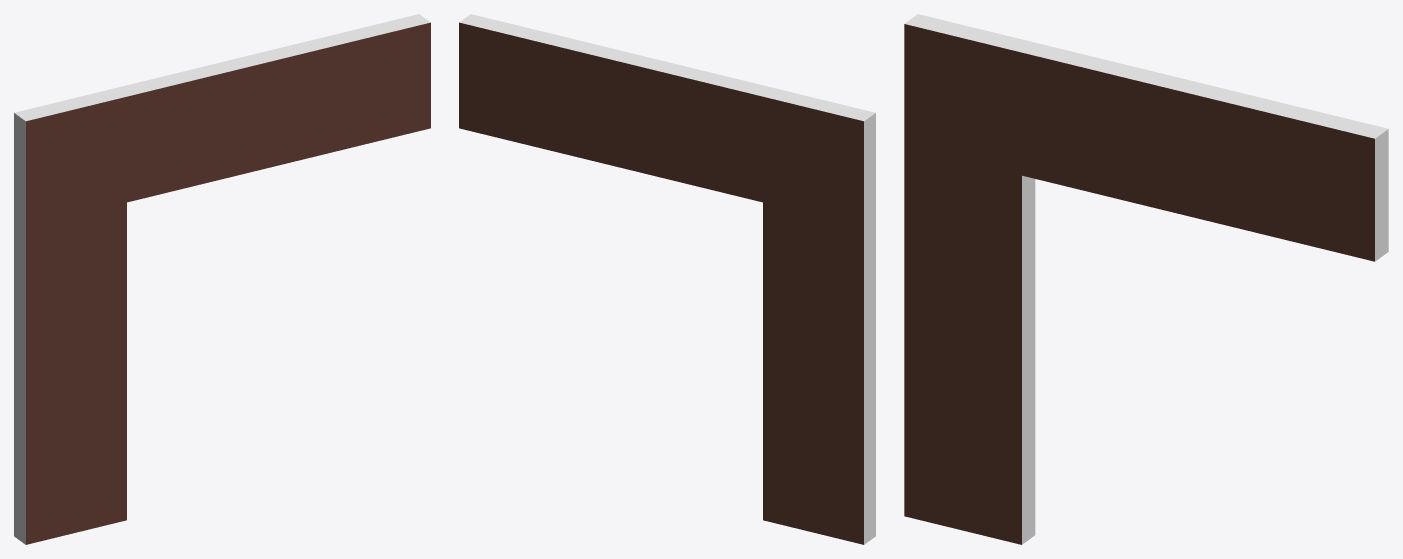
Rendered from Walls_113.glb.
The picture shows the model from 3 angles, left to right: view 1: azimuth 30°, elevation 25°; view 2: azimuth 150°, elevation 25°; view 3: azimuth 330°, elevation 25°; orthographic projection. The views are drawn at different scales.
Parts seen in each view (by area): view 1: Walls_113; view 2: Walls_113; view 3: Walls_113.
Part boxes in pixels (x1=…): Walls_113: x1=14, y1=14, x2=430, y2=544; Walls_113: x1=459, y1=14, x2=875, y2=544; Walls_113: x1=904, y1=14, x2=1388, y2=544.
Size of the model in its own units: 4 by 4 by 0.2.
Materials: 1 (1 with a texture image).
